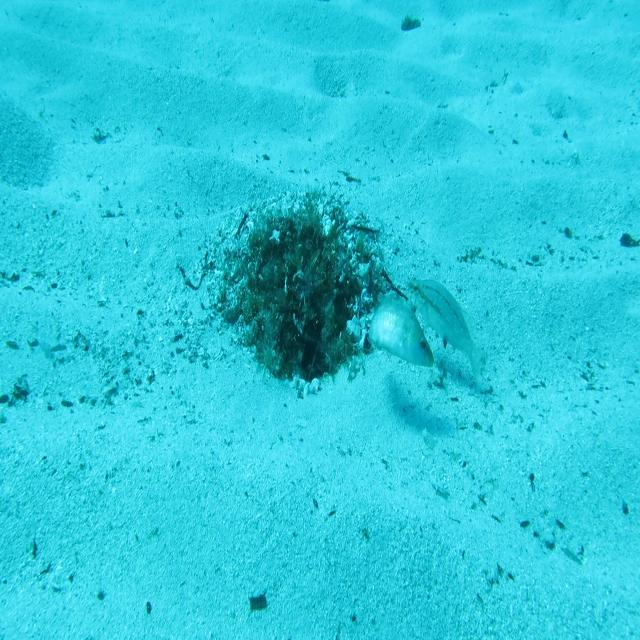DAN_CIRC: (365, 290, 436, 372)
core_nest: (277, 227, 323, 283)
female: (405, 276, 490, 389)
nest: (194, 168, 416, 422)
vegetation: (398, 14, 423, 32), (620, 229, 640, 251), (248, 594, 269, 612)
